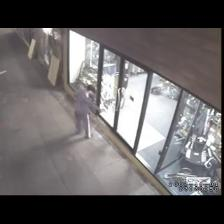person: (75, 85, 100, 138)
